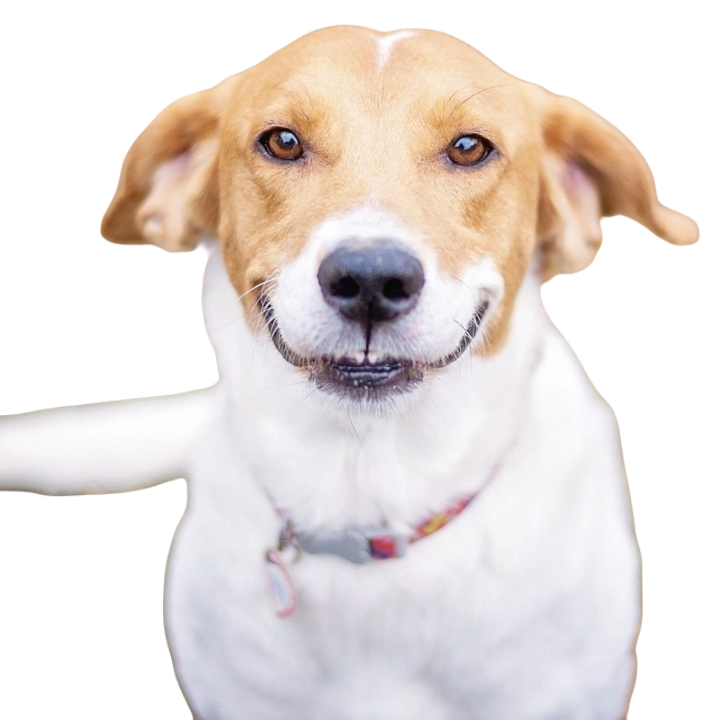Dog: (0, 18, 699, 719)
